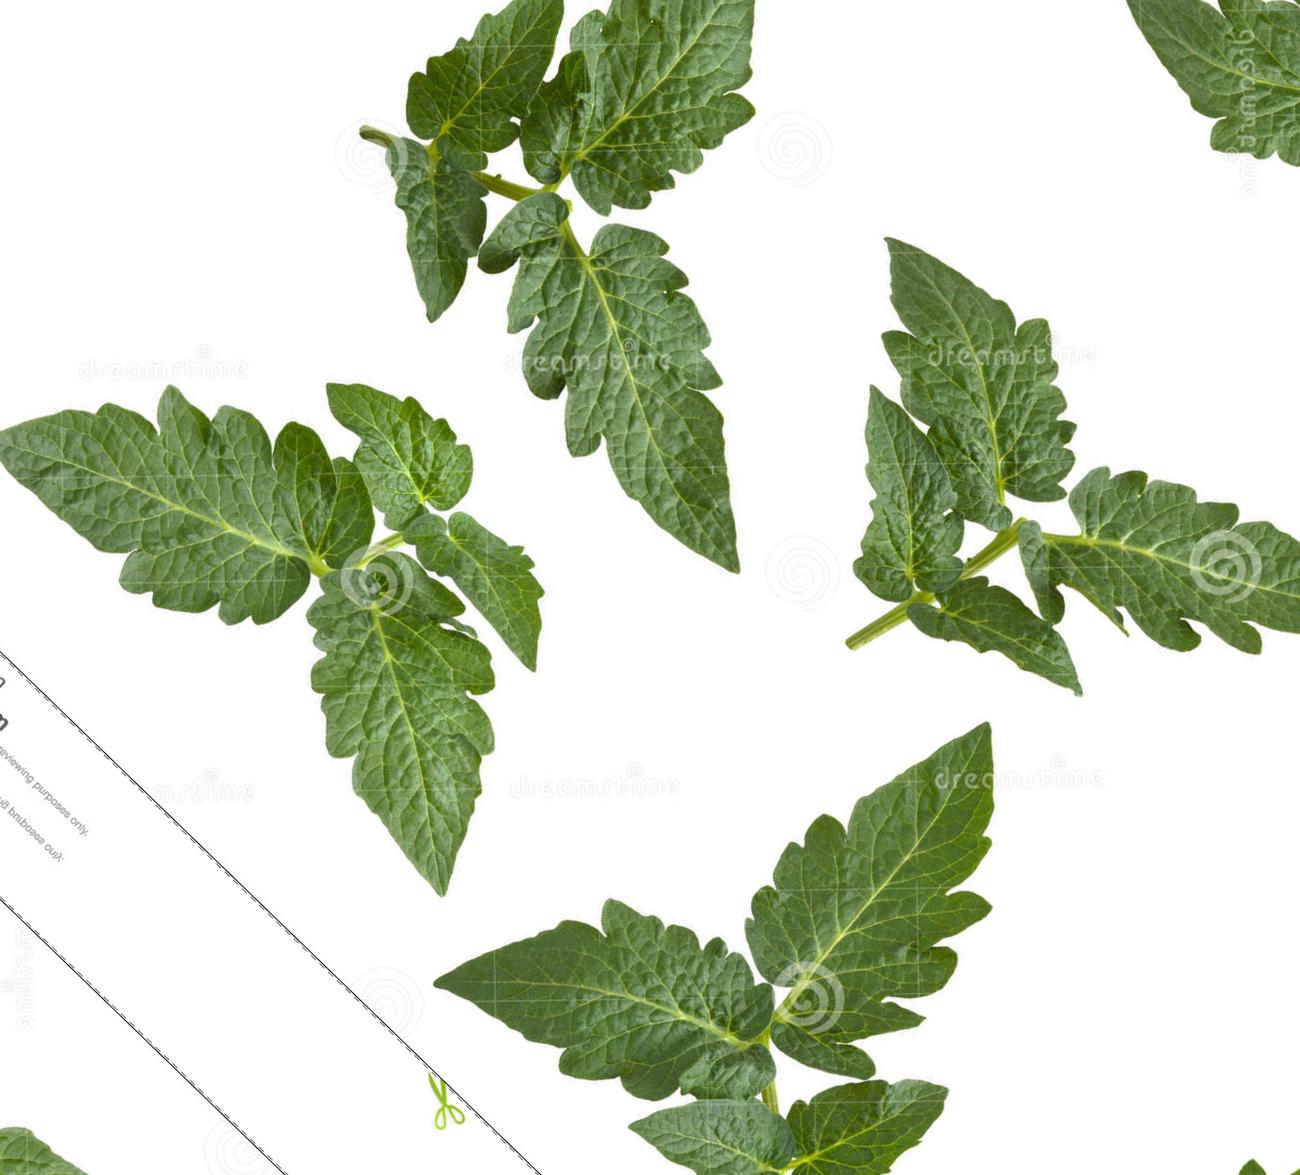Tomato leaf: (407, 154, 898, 642), (658, 669, 1132, 1147), (0, 247, 420, 729), (212, 523, 633, 943), (755, 164, 1154, 559), (1002, 357, 1300, 816), (467, 0, 873, 273)
